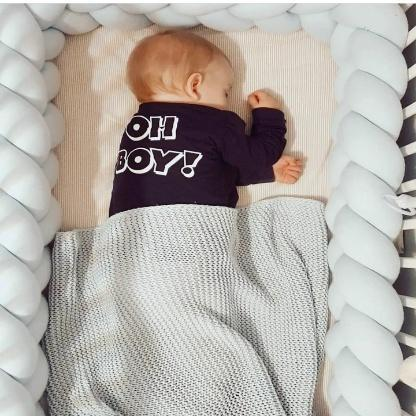baby: (108, 29, 303, 221)
